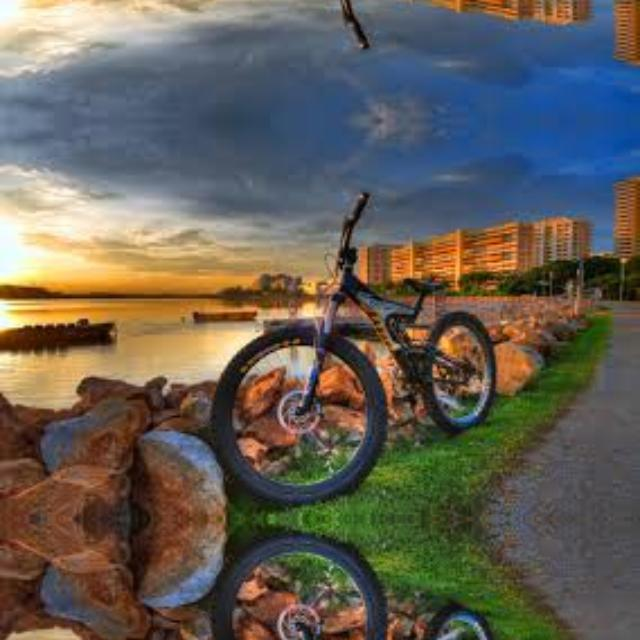obstacle: (211, 186, 511, 486), (211, 552, 511, 640), (211, 0, 511, 54)
